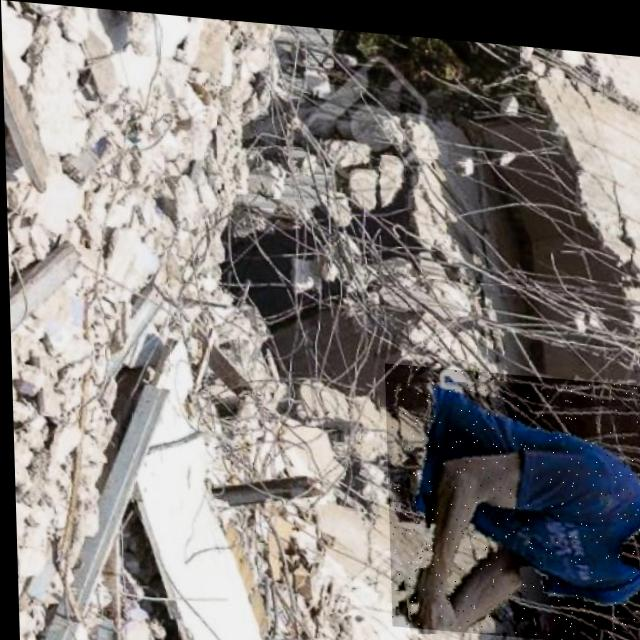Person in Rubble: (382, 356, 640, 638)
